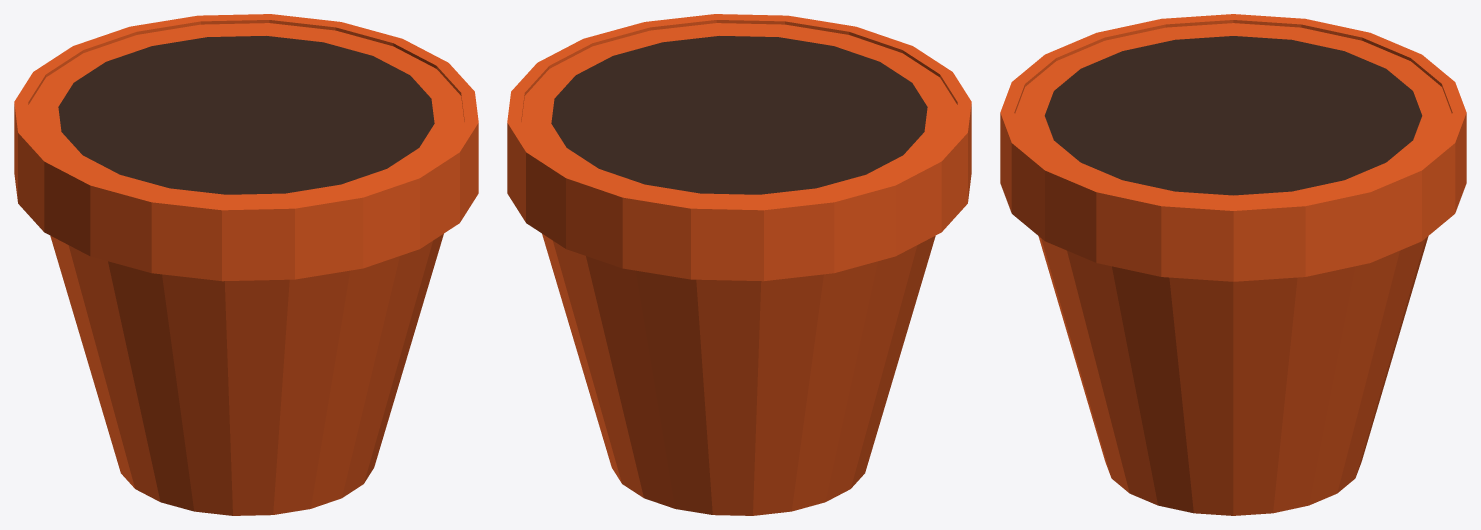
3 views of the same model, side by side, from view 1: azimuth 30°, elevation 25°; view 2: azimuth 150°, elevation 25°; view 3: azimuth 270°, elevation 25° (orthographic).
Parts seen in each view (by area): view 1: flowerpot; view 2: flowerpot; view 3: flowerpot.
Boxes of the visible parts, x1,y1,x2,y2 form: flowerpot: (14, 14, 478, 515); flowerpot: (507, 14, 971, 515); flowerpot: (1000, 14, 1466, 515).
Bounding box in the file's own units: 0.2 × 0.1653 × 0.2.
